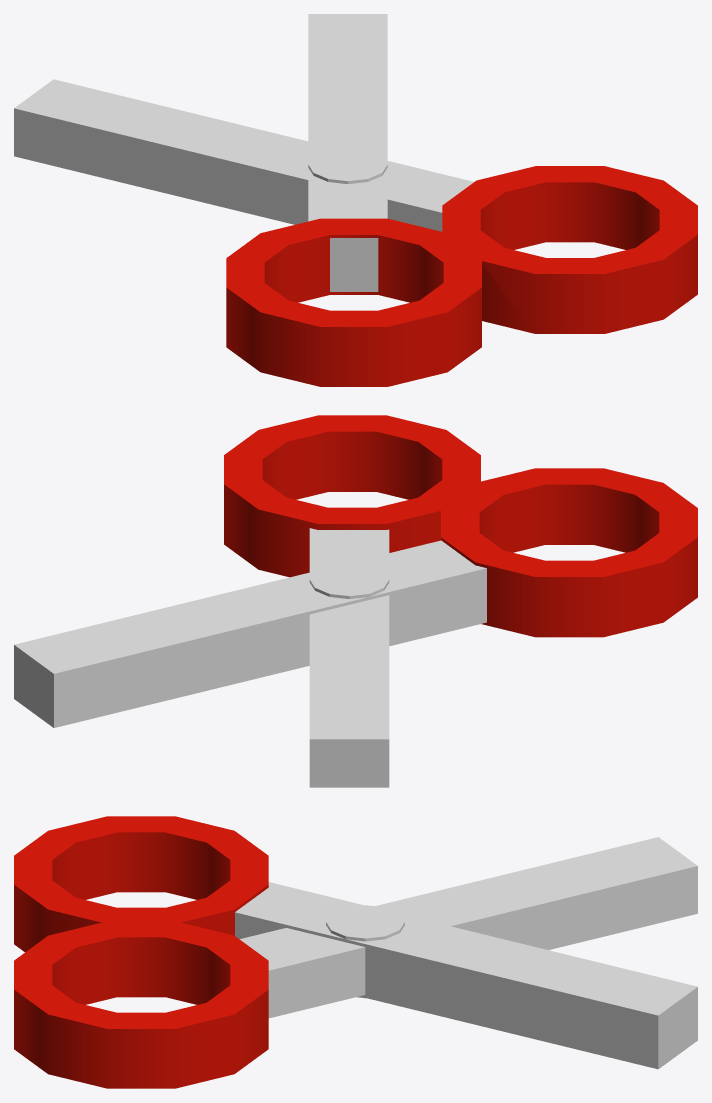
File: sicissors.fbx
3 renders of one model, top to bottom at view 1: azimuth 30°, elevation 25°; view 2: azimuth 150°, elevation 25°; view 3: azimuth 270°, elevation 25°, orthographic.
Parts seen in each view (by area): view 1: Cylinder.001, Cylinder.002; view 2: Cylinder.001, Cylinder.002; view 3: Cylinder.002, Cylinder.001.
Boxes of the visible parts, box(x1,y1,x2,y2) form: Cylinder.001: box(226, 166, 697, 386); Cylinder.002: box(14, 14, 473, 291); Cylinder.001: box(224, 415, 697, 637); Cylinder.002: box(14, 528, 486, 787); Cylinder.002: box(235, 837, 697, 1069); Cylinder.001: box(14, 816, 268, 1088).
Bounding box in the file's own units: 382 × 50 × 519.
